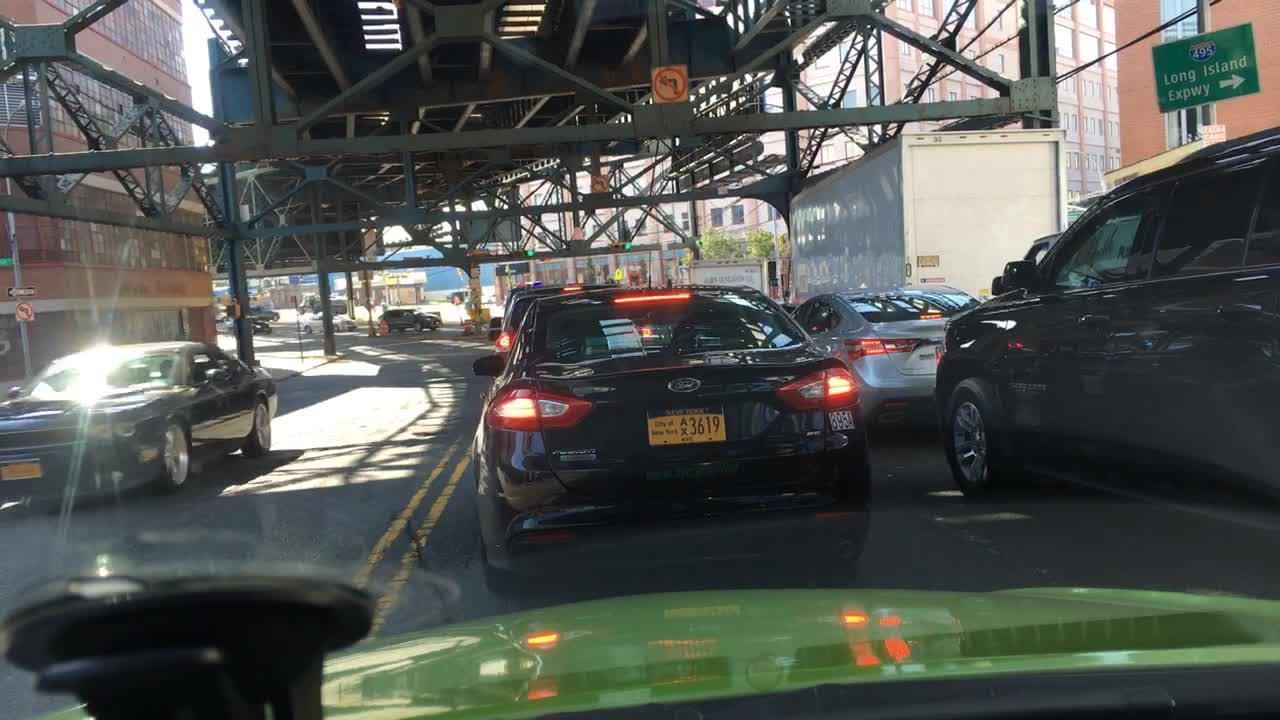ford: (658, 372, 705, 399)
